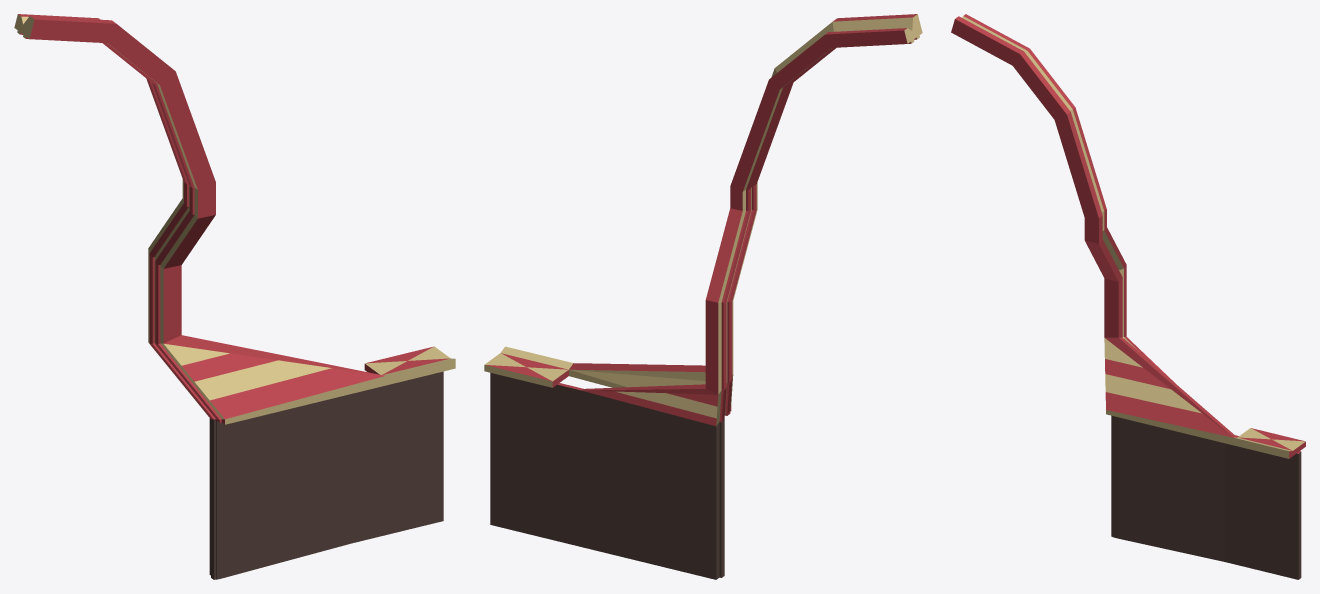
File: Paddle.obj
3 renders of one model, left to right at view 1: azimuth 30°, elevation 25°; view 2: azimuth 150°, elevation 25°; view 3: azimuth 330°, elevation 25°, orthographic. The views are drawn at different scales.
Visible parts, largest first — view 1: Mesh1 Model; view 2: Mesh1 Model; view 3: Mesh1 Model.
Part boxes in pixels (left/top/right/bottom): Mesh1 Model: left=14, top=14, right=455, bottom=579; Mesh1 Model: left=484, top=14, right=922, bottom=579; Mesh1 Model: left=951, top=14, right=1305, bottom=579.
Bounding box in the file's own units: 26.95 × 37 × 4.92.
